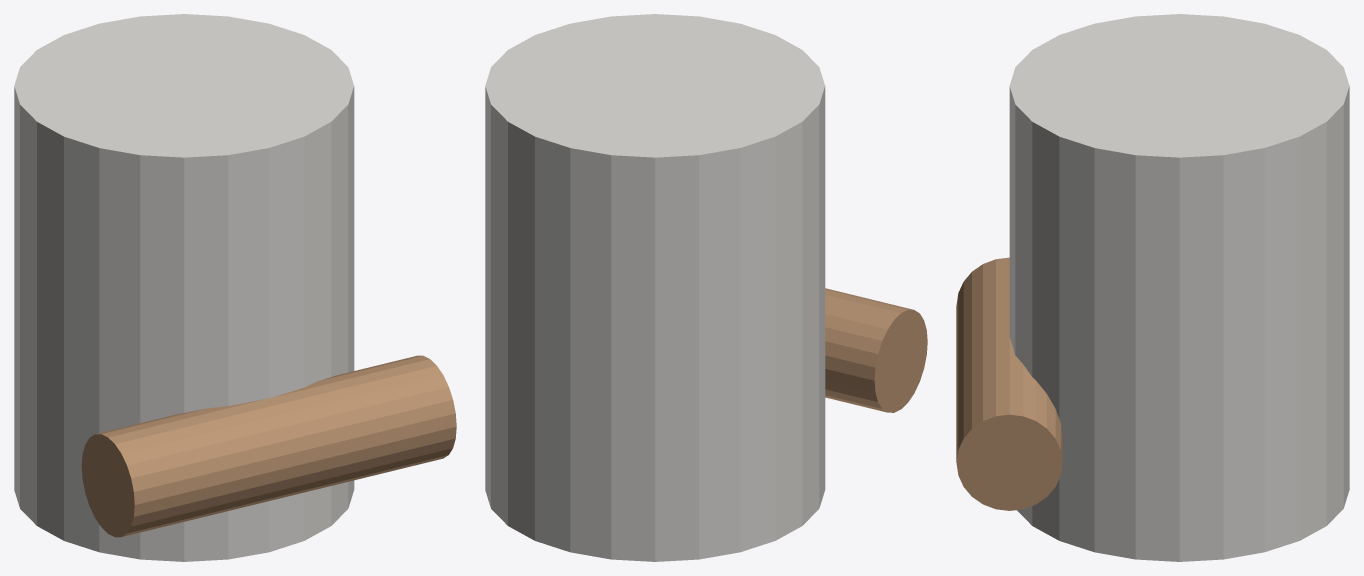
The model's file is bubble_tea.glb.
3 renders of one model, left to right at view 1: azimuth 30°, elevation 25°; view 2: azimuth 150°, elevation 25°; view 3: azimuth 270°, elevation 25°, orthographic.
Visible parts, largest first — view 1: geometry_3, geometry_4; view 2: geometry_3, geometry_4; view 3: geometry_3, geometry_4.
Boxes of the visible parts, box(x1,y1,x2,y2) form: geometry_3: box(14, 14, 354, 561); geometry_4: box(81, 355, 456, 537); geometry_3: box(485, 14, 825, 561); geometry_4: box(825, 288, 927, 412); geometry_3: box(1009, 14, 1349, 561); geometry_4: box(956, 257, 1062, 510).
Bounding box in the file's own units: 0.35 × 0.42 × 0.37.
